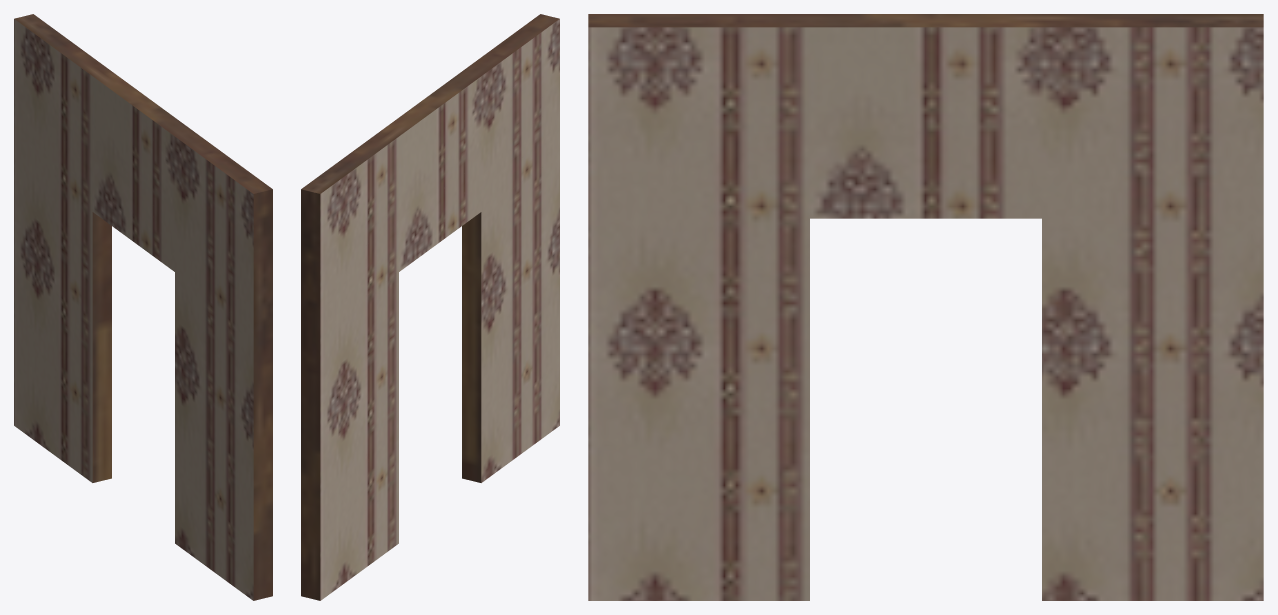
Rendered from wall1.dae.
3 renders of one model, left to right at view 1: azimuth 30°, elevation 25°; view 2: azimuth 150°, elevation 25°; view 3: azimuth 270°, elevation 25°, orthographic. The views are drawn at different scales.
Visible parts, largest first — view 1: Plane.003; view 2: Plane.003; view 3: Plane.003.
Boxes of the visible parts, box(x1,y1,x2,y2) form: Plane.003: box(14, 14, 272, 600); Plane.003: box(301, 14, 559, 600); Plane.003: box(588, 14, 1263, 600).
Size of the model in its own units: 0.15 by 3.2 by 3.
Materials: 1 (1 with a texture image).
